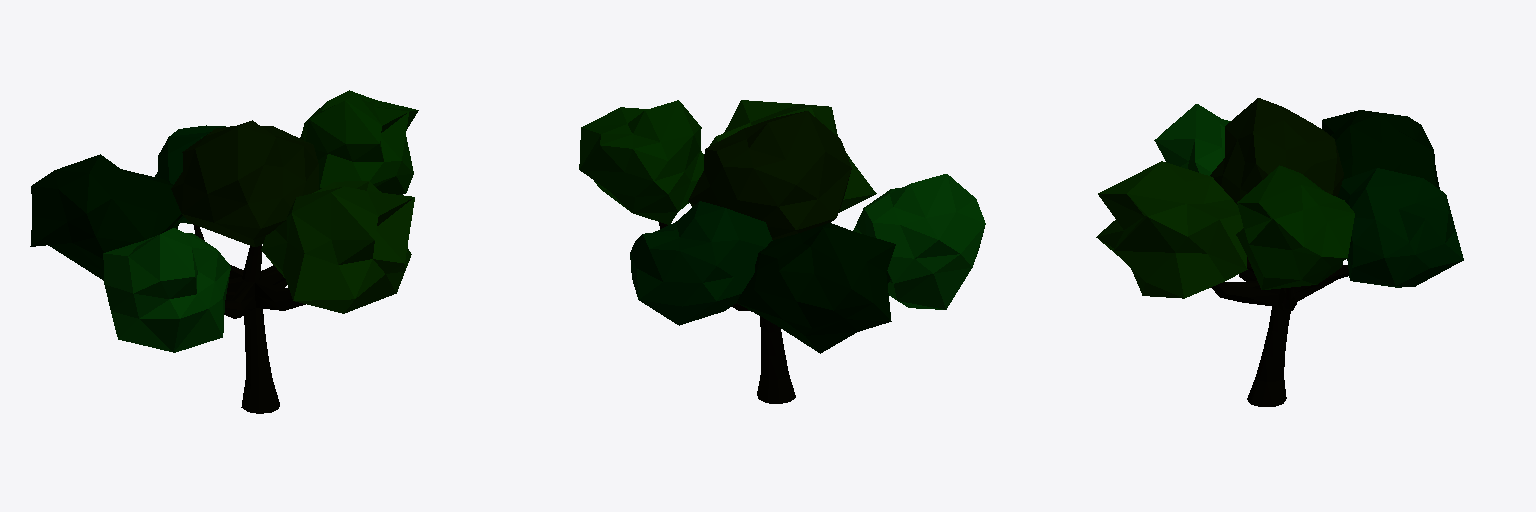
File: Tree.obj
The picture shows the model from 3 angles: view 1: azimuth 30°, elevation 25°; view 2: azimuth 150°, elevation 25°; view 3: azimuth 270°, elevation 25°; orthographic projection.
Visible parts, largest first — view 1: Tree_Icosphere.014; view 2: Tree_Icosphere.014; view 3: Tree_Icosphere.014.
Part boxes in pixels (left/top/right/bottom): Tree_Icosphere.014: left=30, top=90, right=418, bottom=413; Tree_Icosphere.014: left=579, top=100, right=985, bottom=403; Tree_Icosphere.014: left=1096, top=98, right=1463, bottom=406.
Bounding box in the file's own units: 8.12 × 6.4 × 7.4.